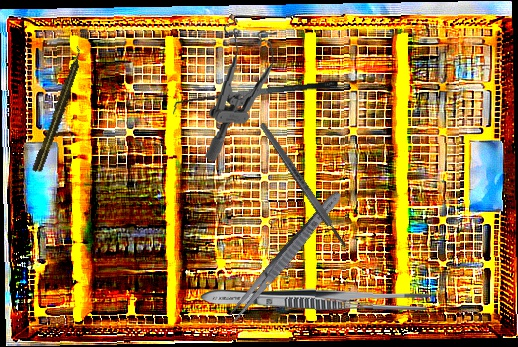Dressing Forceps: (223, 187, 346, 328), (200, 285, 431, 313)
Handpiece: (30, 45, 88, 175)
Scalpel Handle: (258, 121, 349, 249)
Spatula Surgical: (171, 79, 340, 116)
Speculum: (204, 12, 280, 166)
